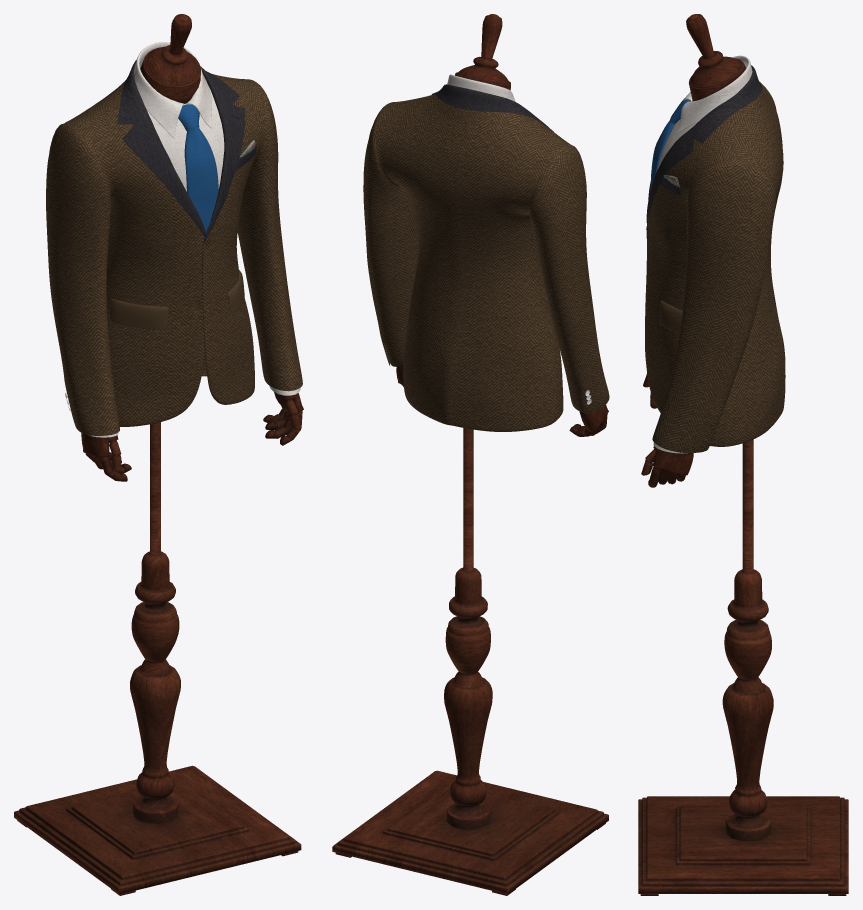
Rendered from Coat-3.glb.
The picture shows the model from 3 angles, left to right: view 1: azimuth 30°, elevation 25°; view 2: azimuth 150°, elevation 25°; view 3: azimuth 270°, elevation 25°; orthographic projection. The views are drawn at different scales.
Parts seen in each view (by area): view 1: _gltfNode_18.005, _gltfNode_0.005, _gltfNode_24.004, _gltfNode_36.004, _gltfNode_60.004, _gltfNode_21.004; view 2: _gltfNode_18.005, _gltfNode_0.005, _gltfNode_24.004, _gltfNode_60.004; view 3: _gltfNode_18.005, _gltfNode_0.005, _gltfNode_24.004, _gltfNode_60.004, _gltfNode_36.004, _gltfNode_21.004.
Part boxes in pixels (bbox=[...]): _gltfNode_18.005: bbox=[46, 74, 302, 435]; _gltfNode_0.005: bbox=[14, 14, 303, 895]; _gltfNode_24.004: bbox=[117, 60, 256, 248]; _gltfNode_36.004: bbox=[178, 104, 218, 238]; _gltfNode_60.004: bbox=[134, 42, 211, 137]; _gltfNode_21.004: bbox=[88, 87, 300, 437]; _gltfNode_18.005: bbox=[363, 94, 609, 431]; _gltfNode_0.005: bbox=[332, 14, 608, 895]; _gltfNode_24.004: bbox=[431, 84, 553, 131]; _gltfNode_60.004: bbox=[447, 74, 515, 101]; _gltfNode_18.005: bbox=[645, 82, 785, 452]; _gltfNode_0.005: bbox=[638, 14, 848, 895]; _gltfNode_24.004: bbox=[646, 65, 762, 224]; _gltfNode_60.004: bbox=[676, 55, 752, 134]; _gltfNode_36.004: bbox=[650, 99, 689, 189]; _gltfNode_21.004: bbox=[653, 119, 696, 453].
Bounding box in the file's own units: 0.2032 × 0.7347 × 0.1673.
8 materials, 7 textured.
